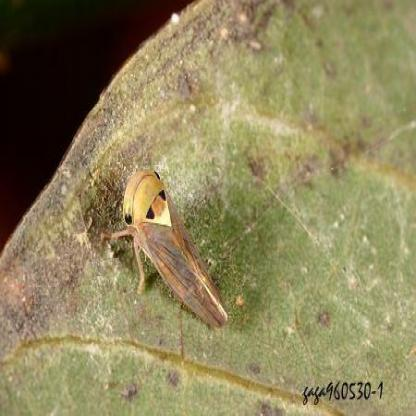grasshopper: (106, 161, 231, 336)
